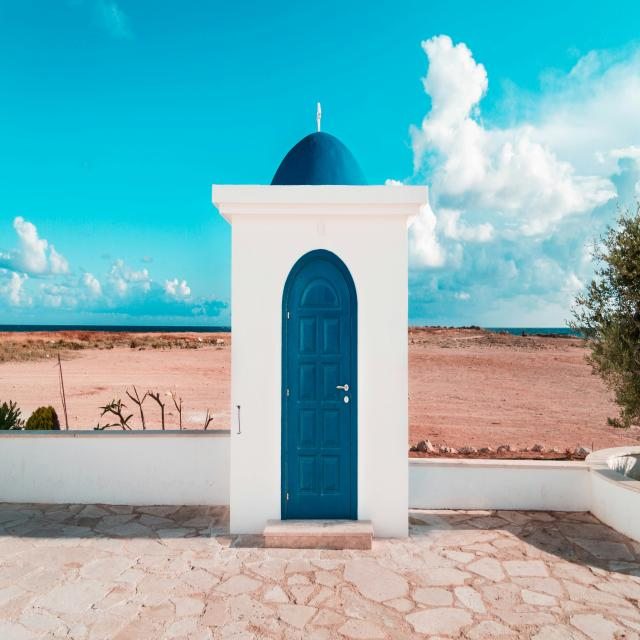door-handle: (336, 384, 349, 391)
